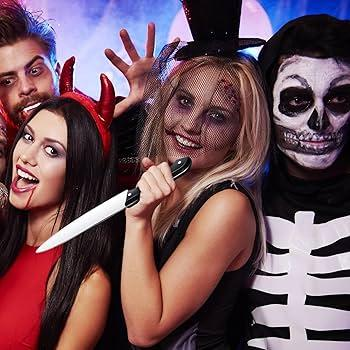Knife: (107, 44, 268, 350), (256, 8, 350, 350), (0, 94, 113, 350), (0, 4, 181, 126), (36, 154, 194, 258), (122, 160, 178, 220)
